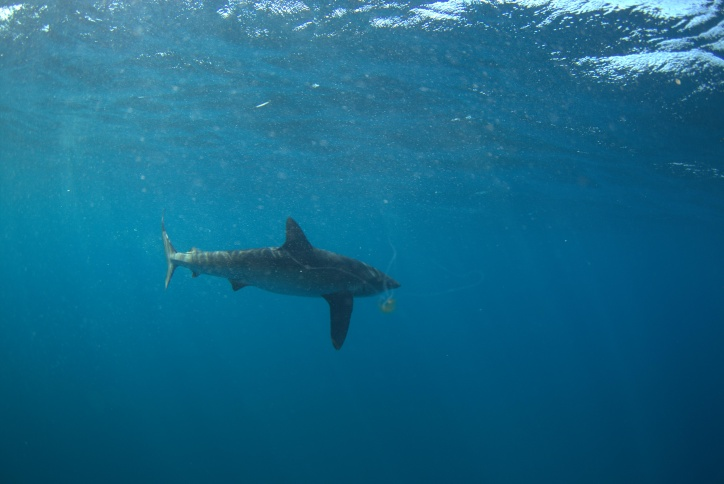Sedoso: (138, 187, 412, 353)
